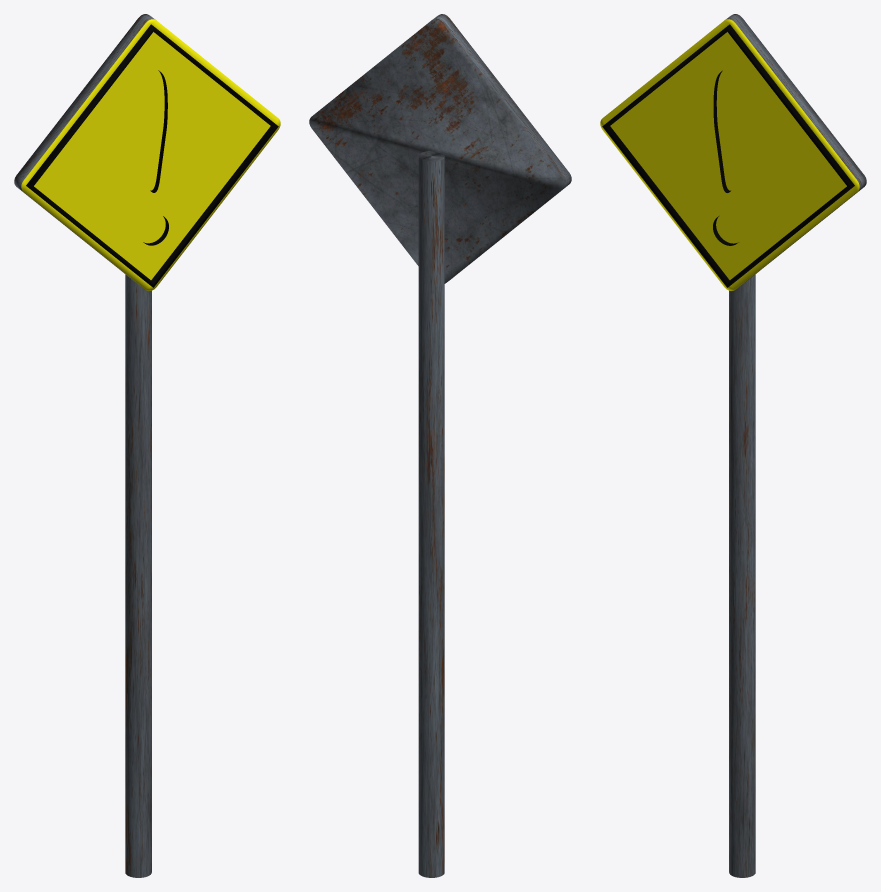
3 views of the same model, side by side, from view 1: azimuth 30°, elevation 25°; view 2: azimuth 150°, elevation 25°; view 3: azimuth 330°, elevation 25° (orthographic).
Visible parts, largest first — view 1: simpang 4.001, tiang.005, Text; view 2: simpang 4.001, tiang.005; view 3: simpang 4.001, tiang.005, Text.
Boxes of the visible parts, bbox=[...] form: simpang 4.001: bbox=[14, 14, 280, 290]; tiang.005: bbox=[125, 274, 151, 877]; Text: bbox=[143, 70, 168, 245]; simpang 4.001: bbox=[309, 14, 571, 283]; tiang.005: bbox=[418, 151, 444, 877]; simpang 4.001: bbox=[600, 14, 866, 290]; tiang.005: bbox=[729, 274, 755, 877]; Text: bbox=[713, 70, 738, 245].
Size of the model in its own units: 0.8096 by 2.57 by 0.1215.
3 materials, 1 textured.
